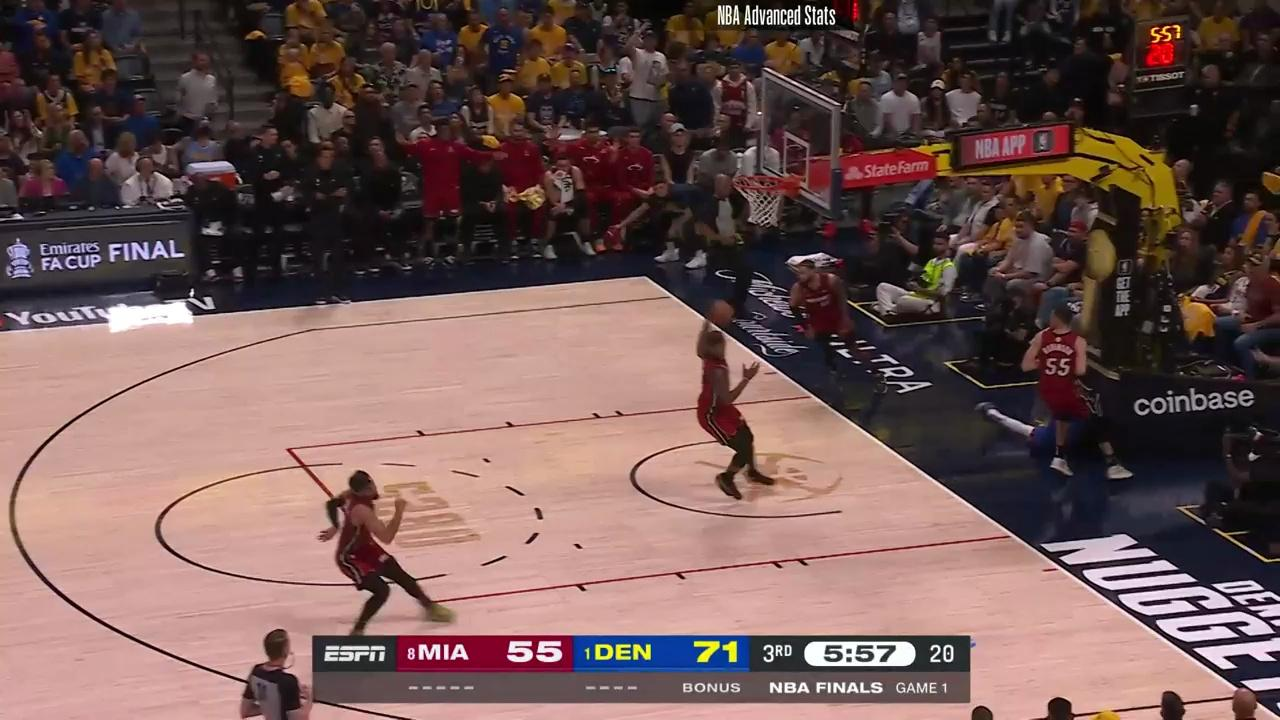Backboard: (757, 78, 833, 215)
Ball: (712, 301, 733, 324)
Basket: (729, 173, 797, 231)
Person: (320, 462, 461, 643), (1018, 293, 1138, 483), (678, 306, 785, 505), (784, 255, 892, 411)
Referee: (232, 629, 319, 719)
Shot Clock: (1131, 12, 1193, 116)
